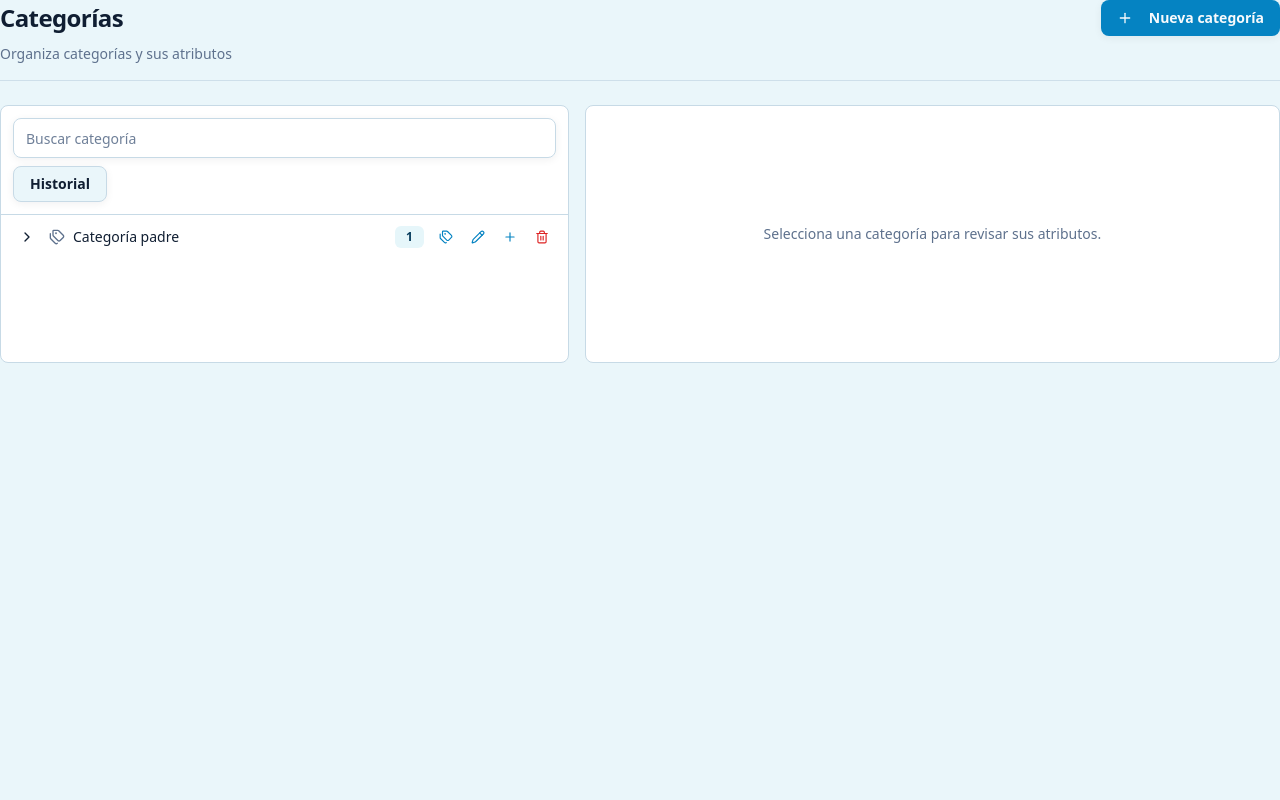
Test case: CategoriasPage › conserva el diálogo de ciclo cuando undo devuelve ATTRIBUTE_STATE_CHANGED
Click the button named "Expandir Categoría padre" at point(27, 237), box 13,223 -> 41,251
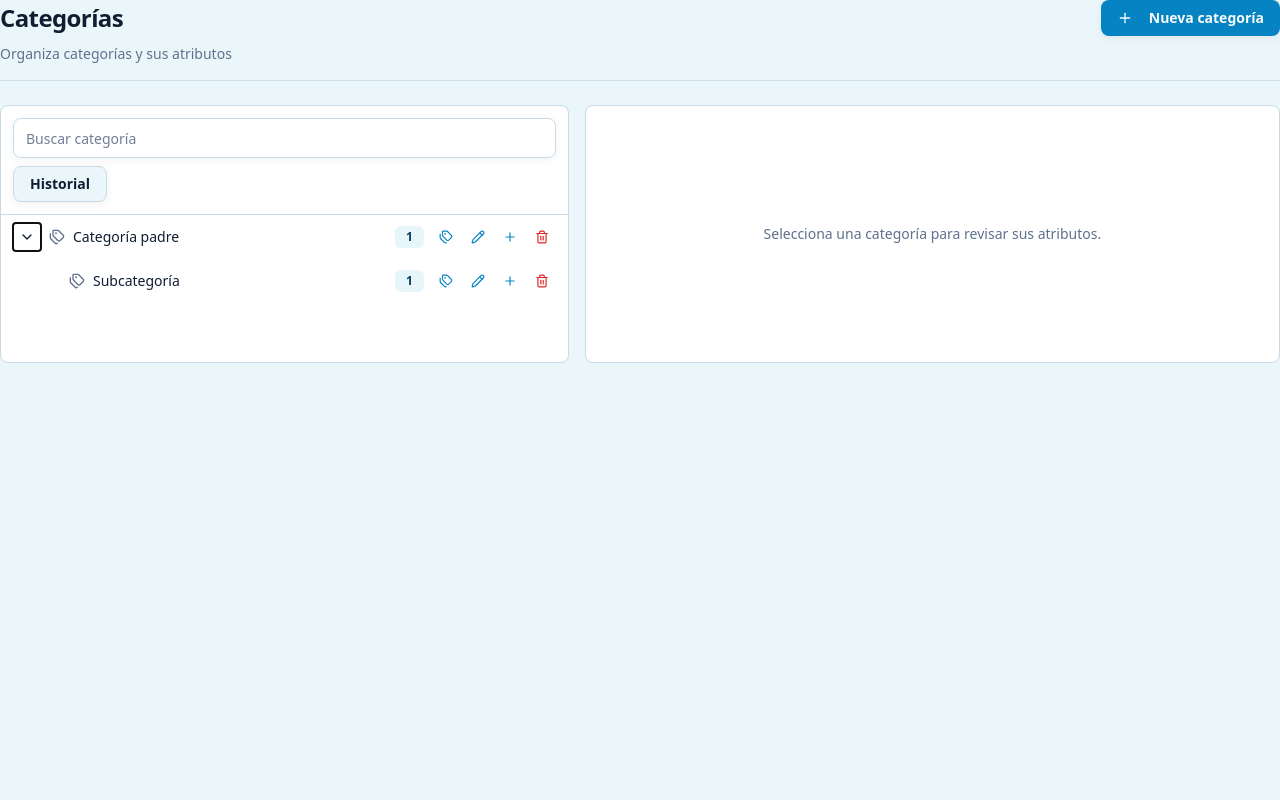
Click the button "Subcategoría" at point(136, 280), box 93,271 -> 387,291
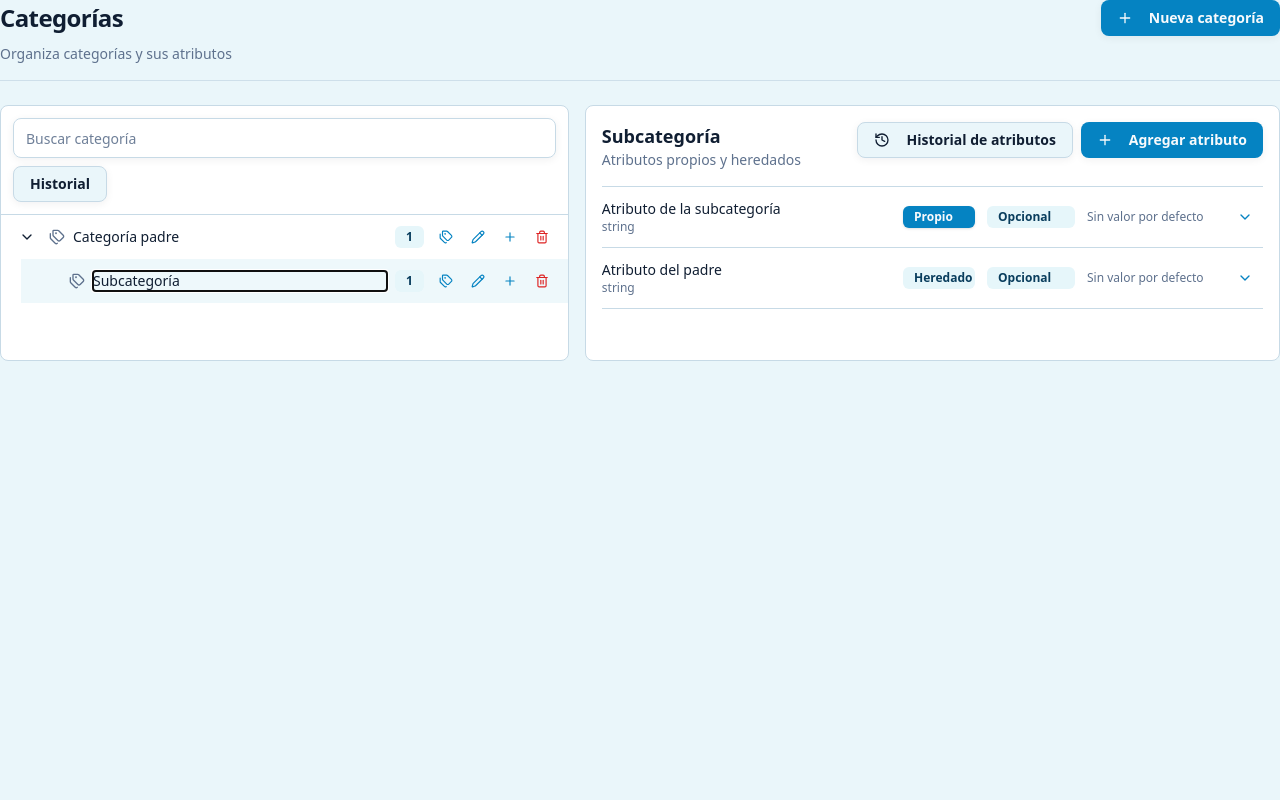
Click the button named "Acciones de Atributo de la subcategoría" at point(1245, 217), box 1227,199 -> 1263,235
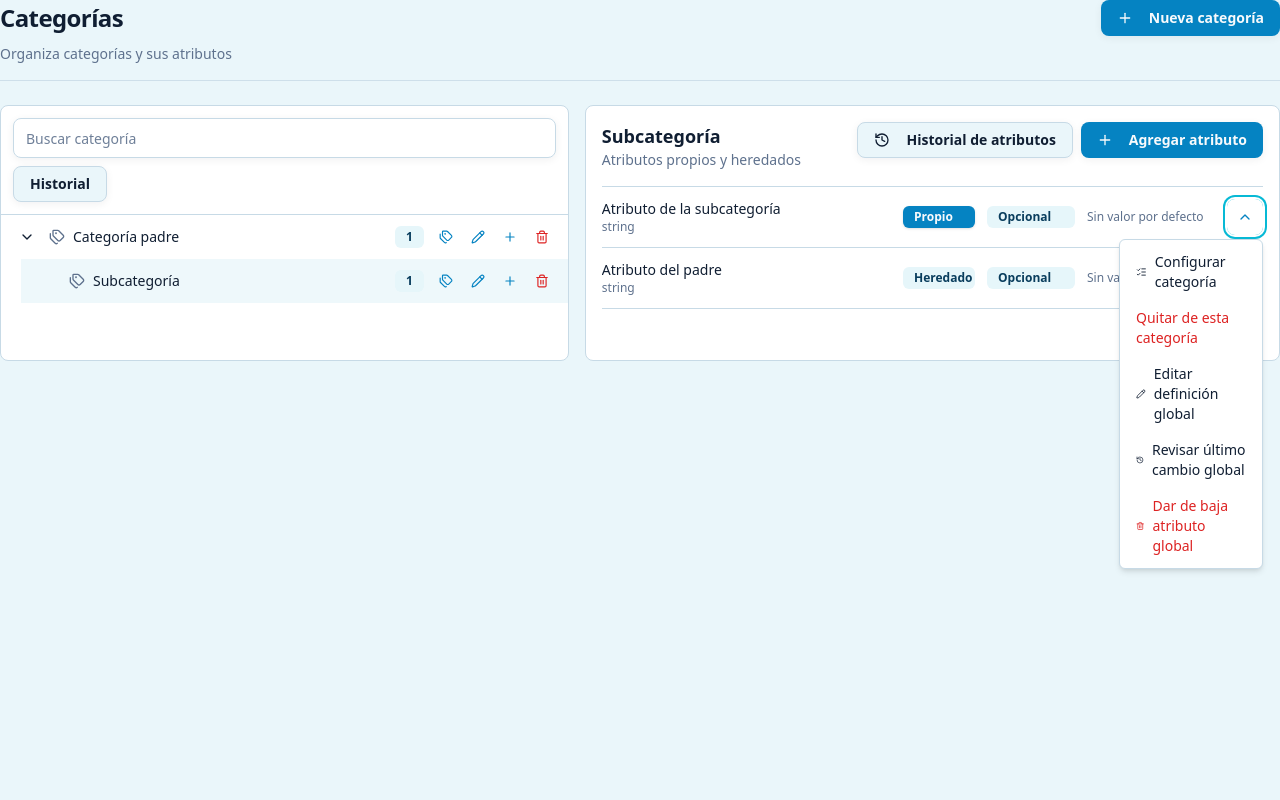
Click the menu item "Revisar último cambio global" at point(1191, 460), box 1124,432 -> 1258,488
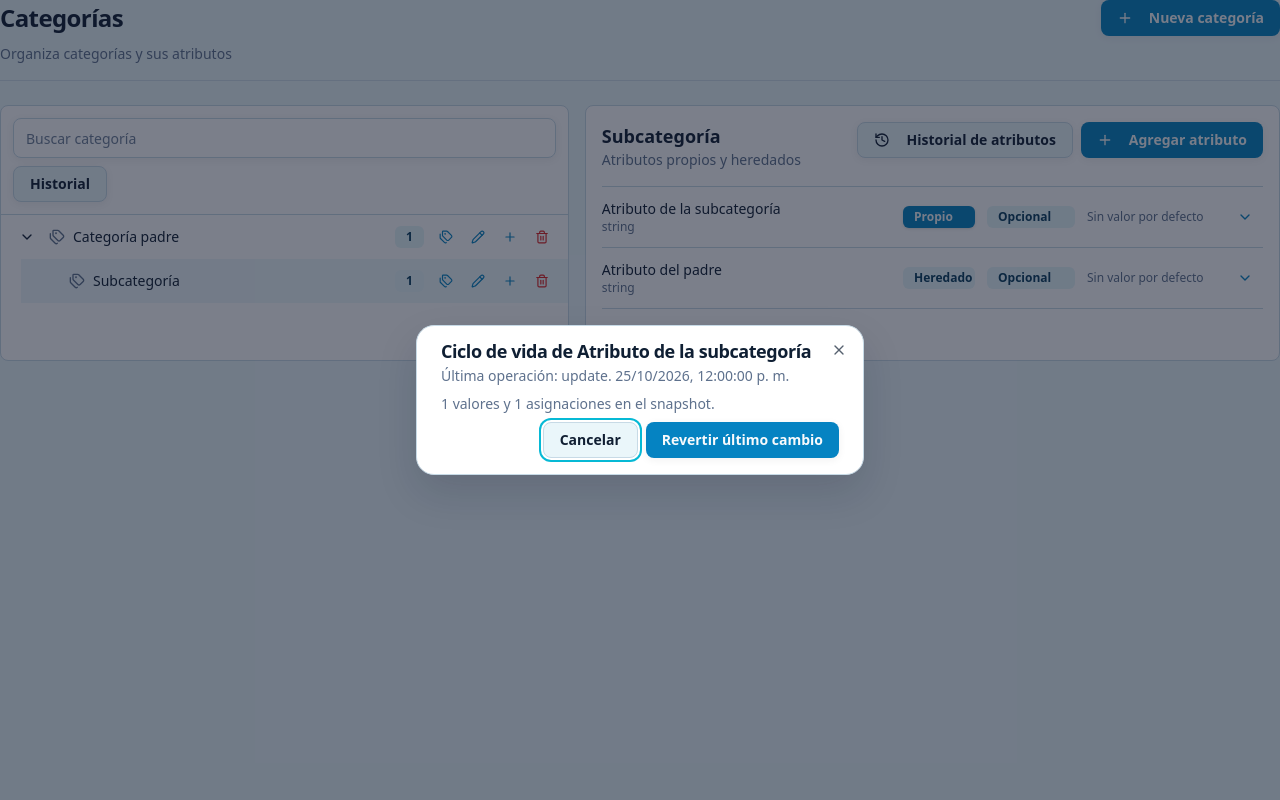
Click the button "Revertir último cambio" at point(742, 440), box 646,422 -> 839,458
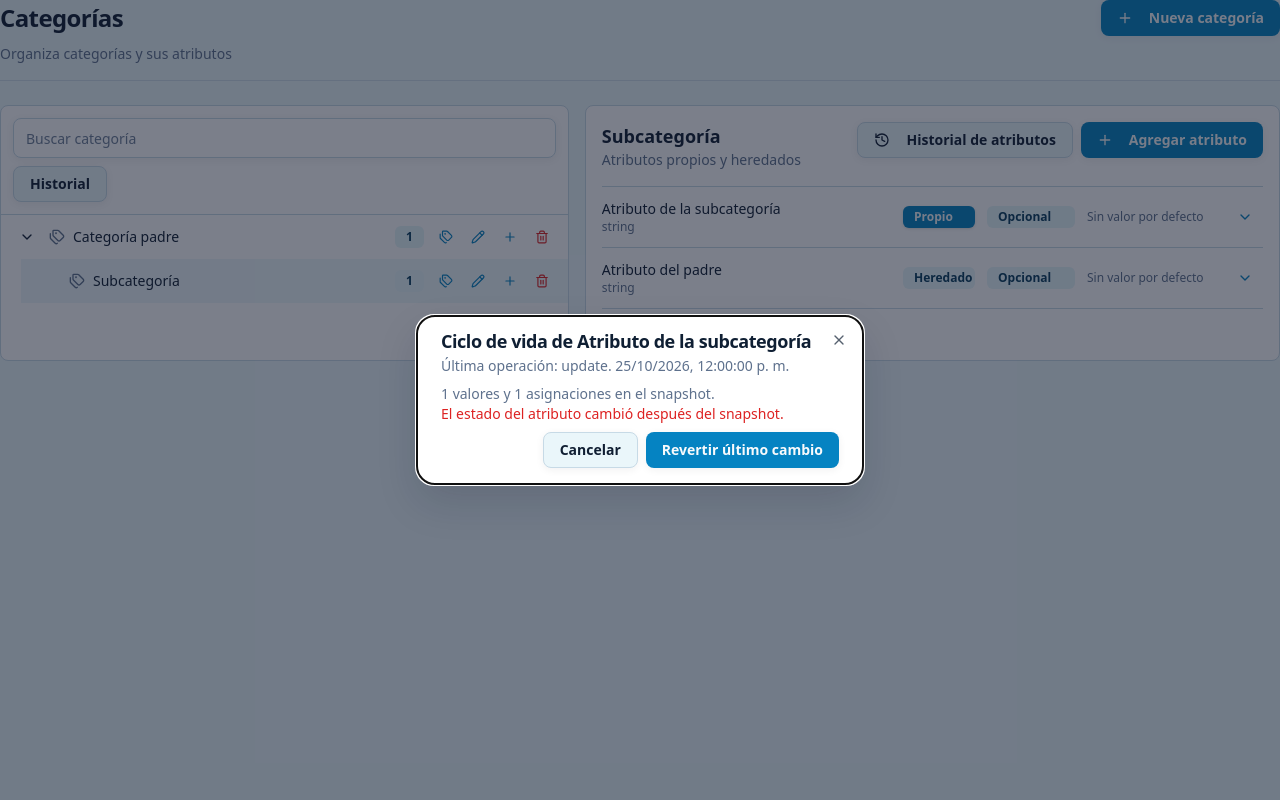
Check: the dialog "Ciclo de vida de" is shown, box 416,315 -> 864,485
Check: the message reads "El estado del atributo cambió después del snapshot.", box 441,404 -> 784,423
